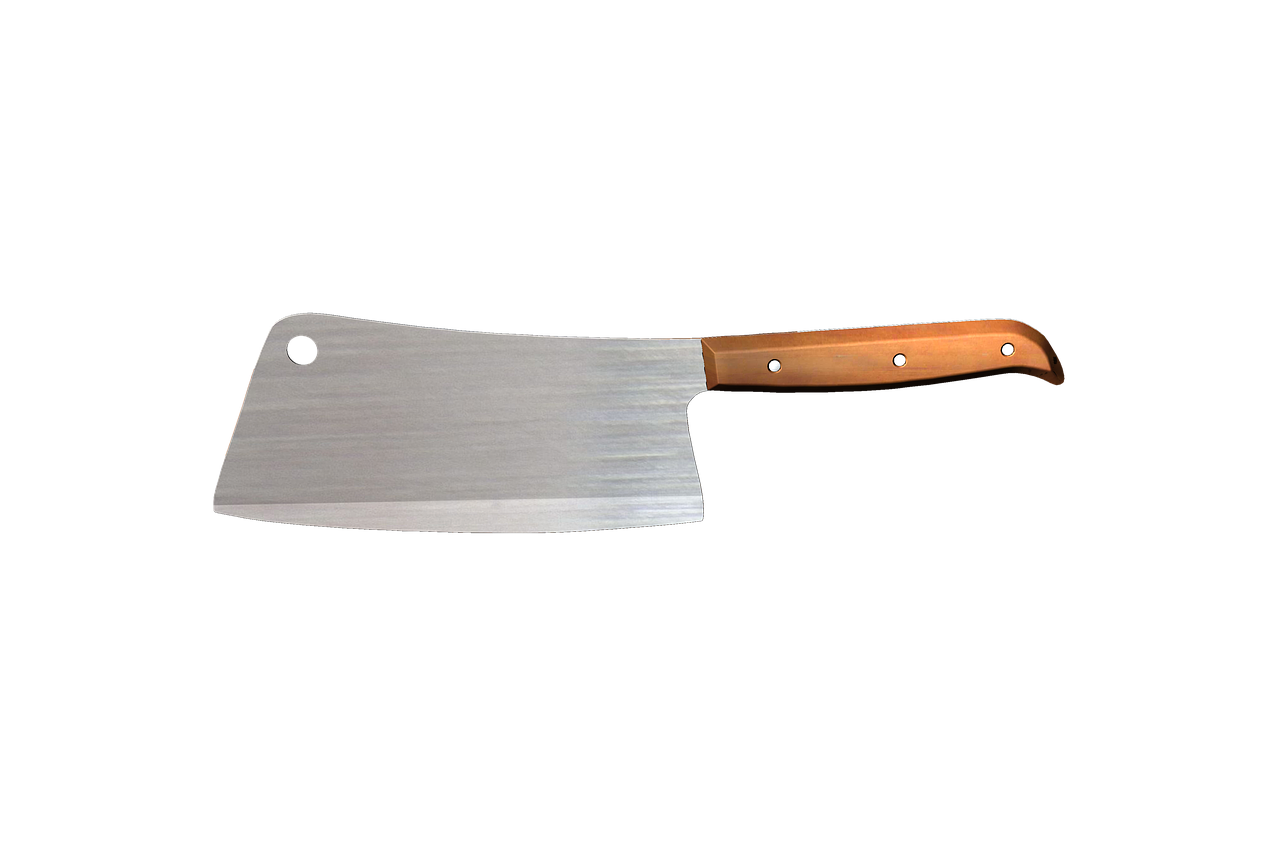knife: (193, 313, 1065, 535)
